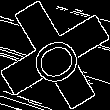O_NE: (22, 23, 88, 87)
